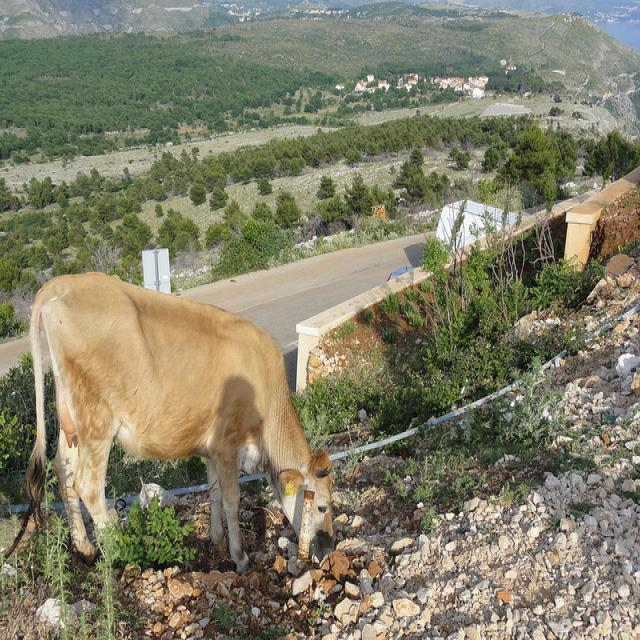cow: (23, 272, 336, 567)
